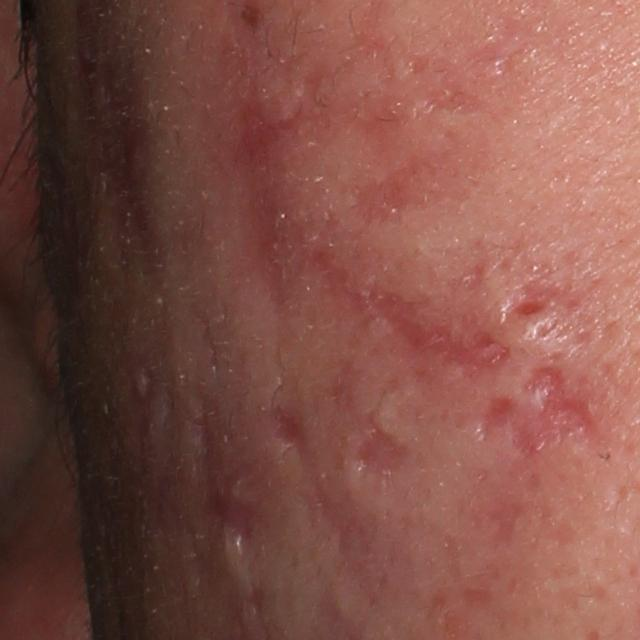atrophic_scar: (267, 398, 379, 571), (366, 285, 513, 382), (472, 357, 605, 463), (190, 391, 265, 547), (329, 362, 415, 481), (306, 247, 385, 338), (405, 51, 485, 124), (497, 296, 554, 320)
hypertrophic_scar: (213, 524, 253, 610)
